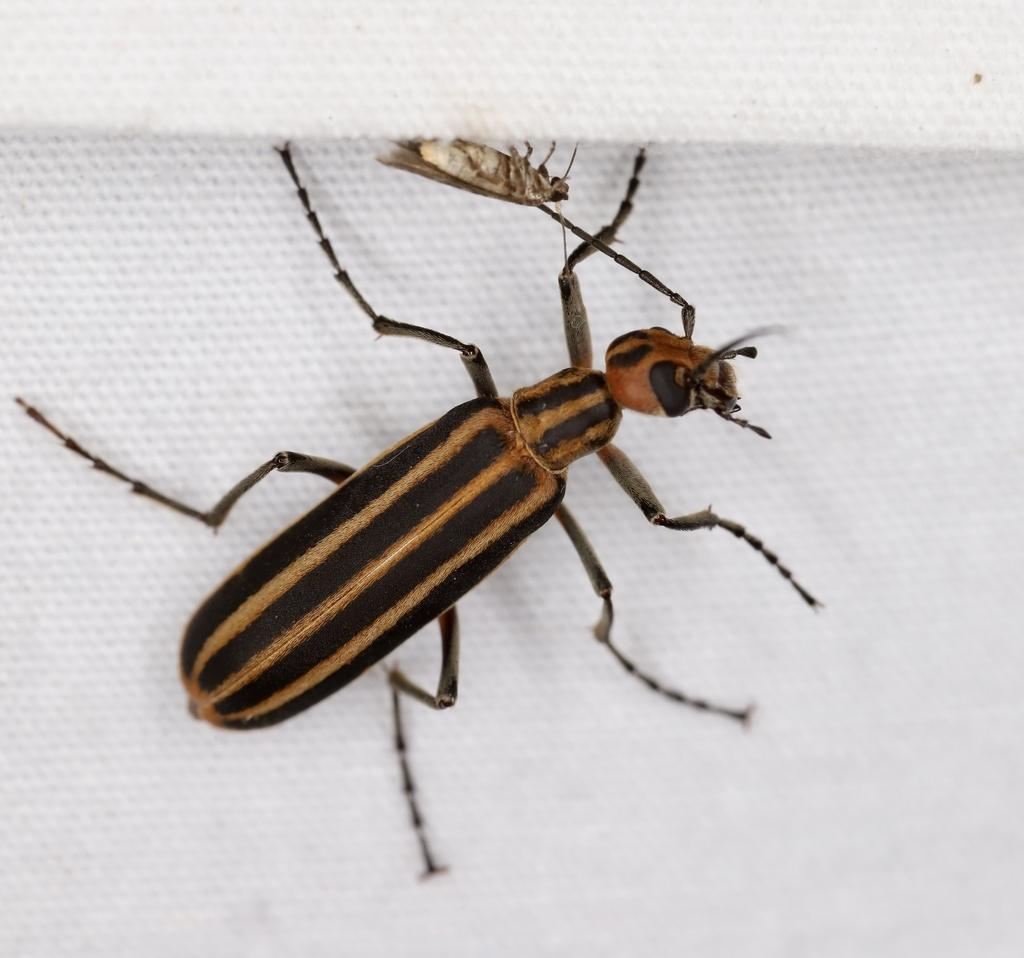blister_beetle: (0, 5, 996, 944)
